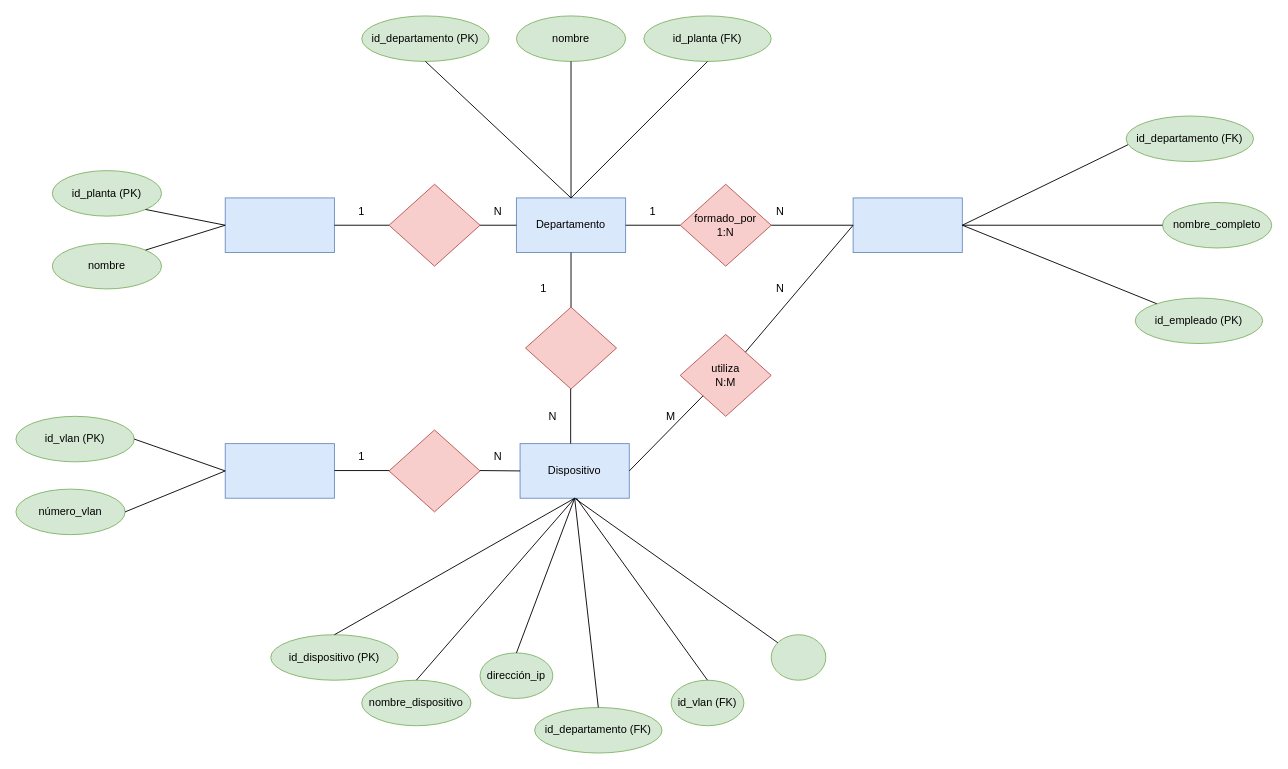
Image size: 1288x769. Some labels were removed from this diagram. The shapes that lost their labels are listed below. From the top down, each one's centre as x and y in pixels, then its label:
(279,225): Planta
(434,224): contiene 1:N
(907,225): Empleado
(571,347): dispone_de 1:N
(279,470): Vlan
(434,470): asignada 1:N
(798,657): tipo
